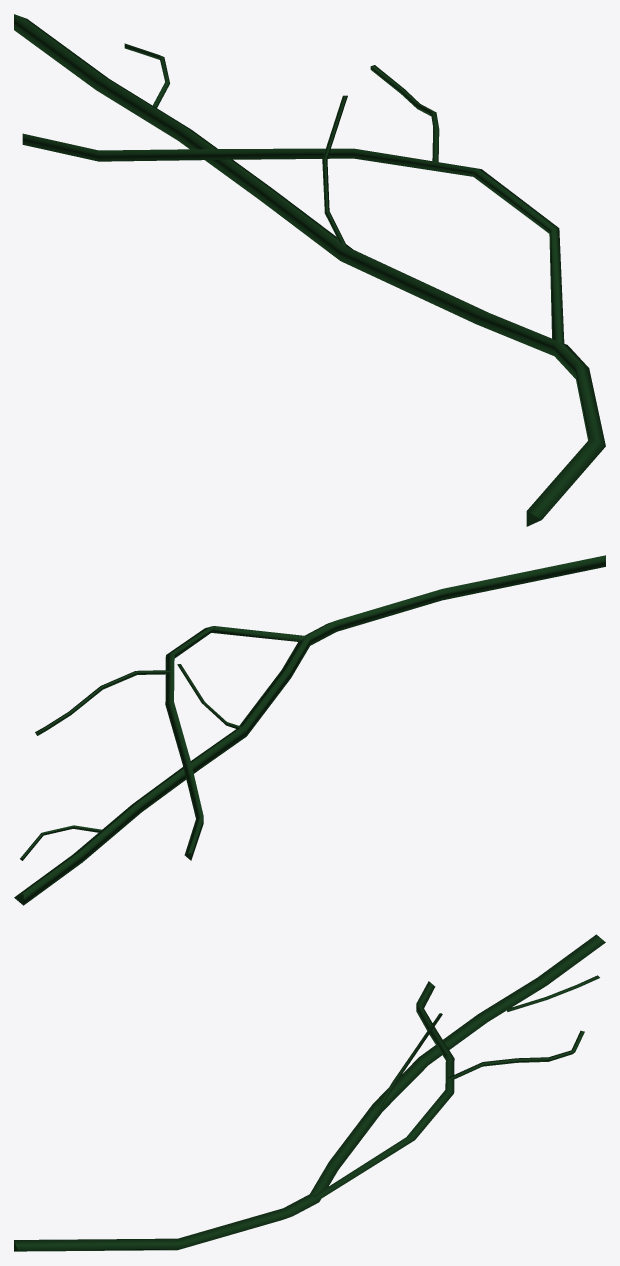
File: PetiteBranche.FBX
3 views of the same model, one above another, from view 1: azimuth 30°, elevation 25°; view 2: azimuth 150°, elevation 25°; view 3: azimuth 330°, elevation 25° (orthographic). The views are drawn at different scales.
Parts seen in each view (by area): view 1: branche003; view 2: branche003; view 3: branche003.
Boxes of the visible parts, <box> form: branche003: <box>14,14,605,526</box>; branche003: <box>14,555,605,905</box>; branche003: <box>14,934,605,1251</box>.
Size of the model in its own units: 19.88 by 6.98 by 69.68.
